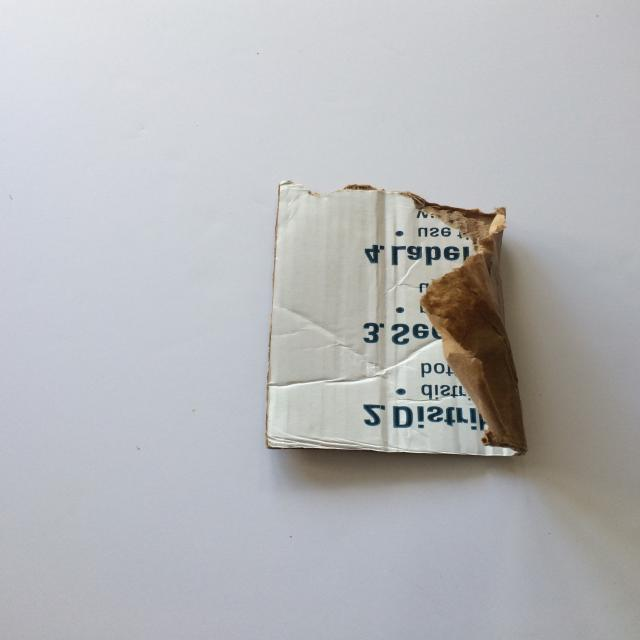cardboard: (248, 173, 532, 470)
